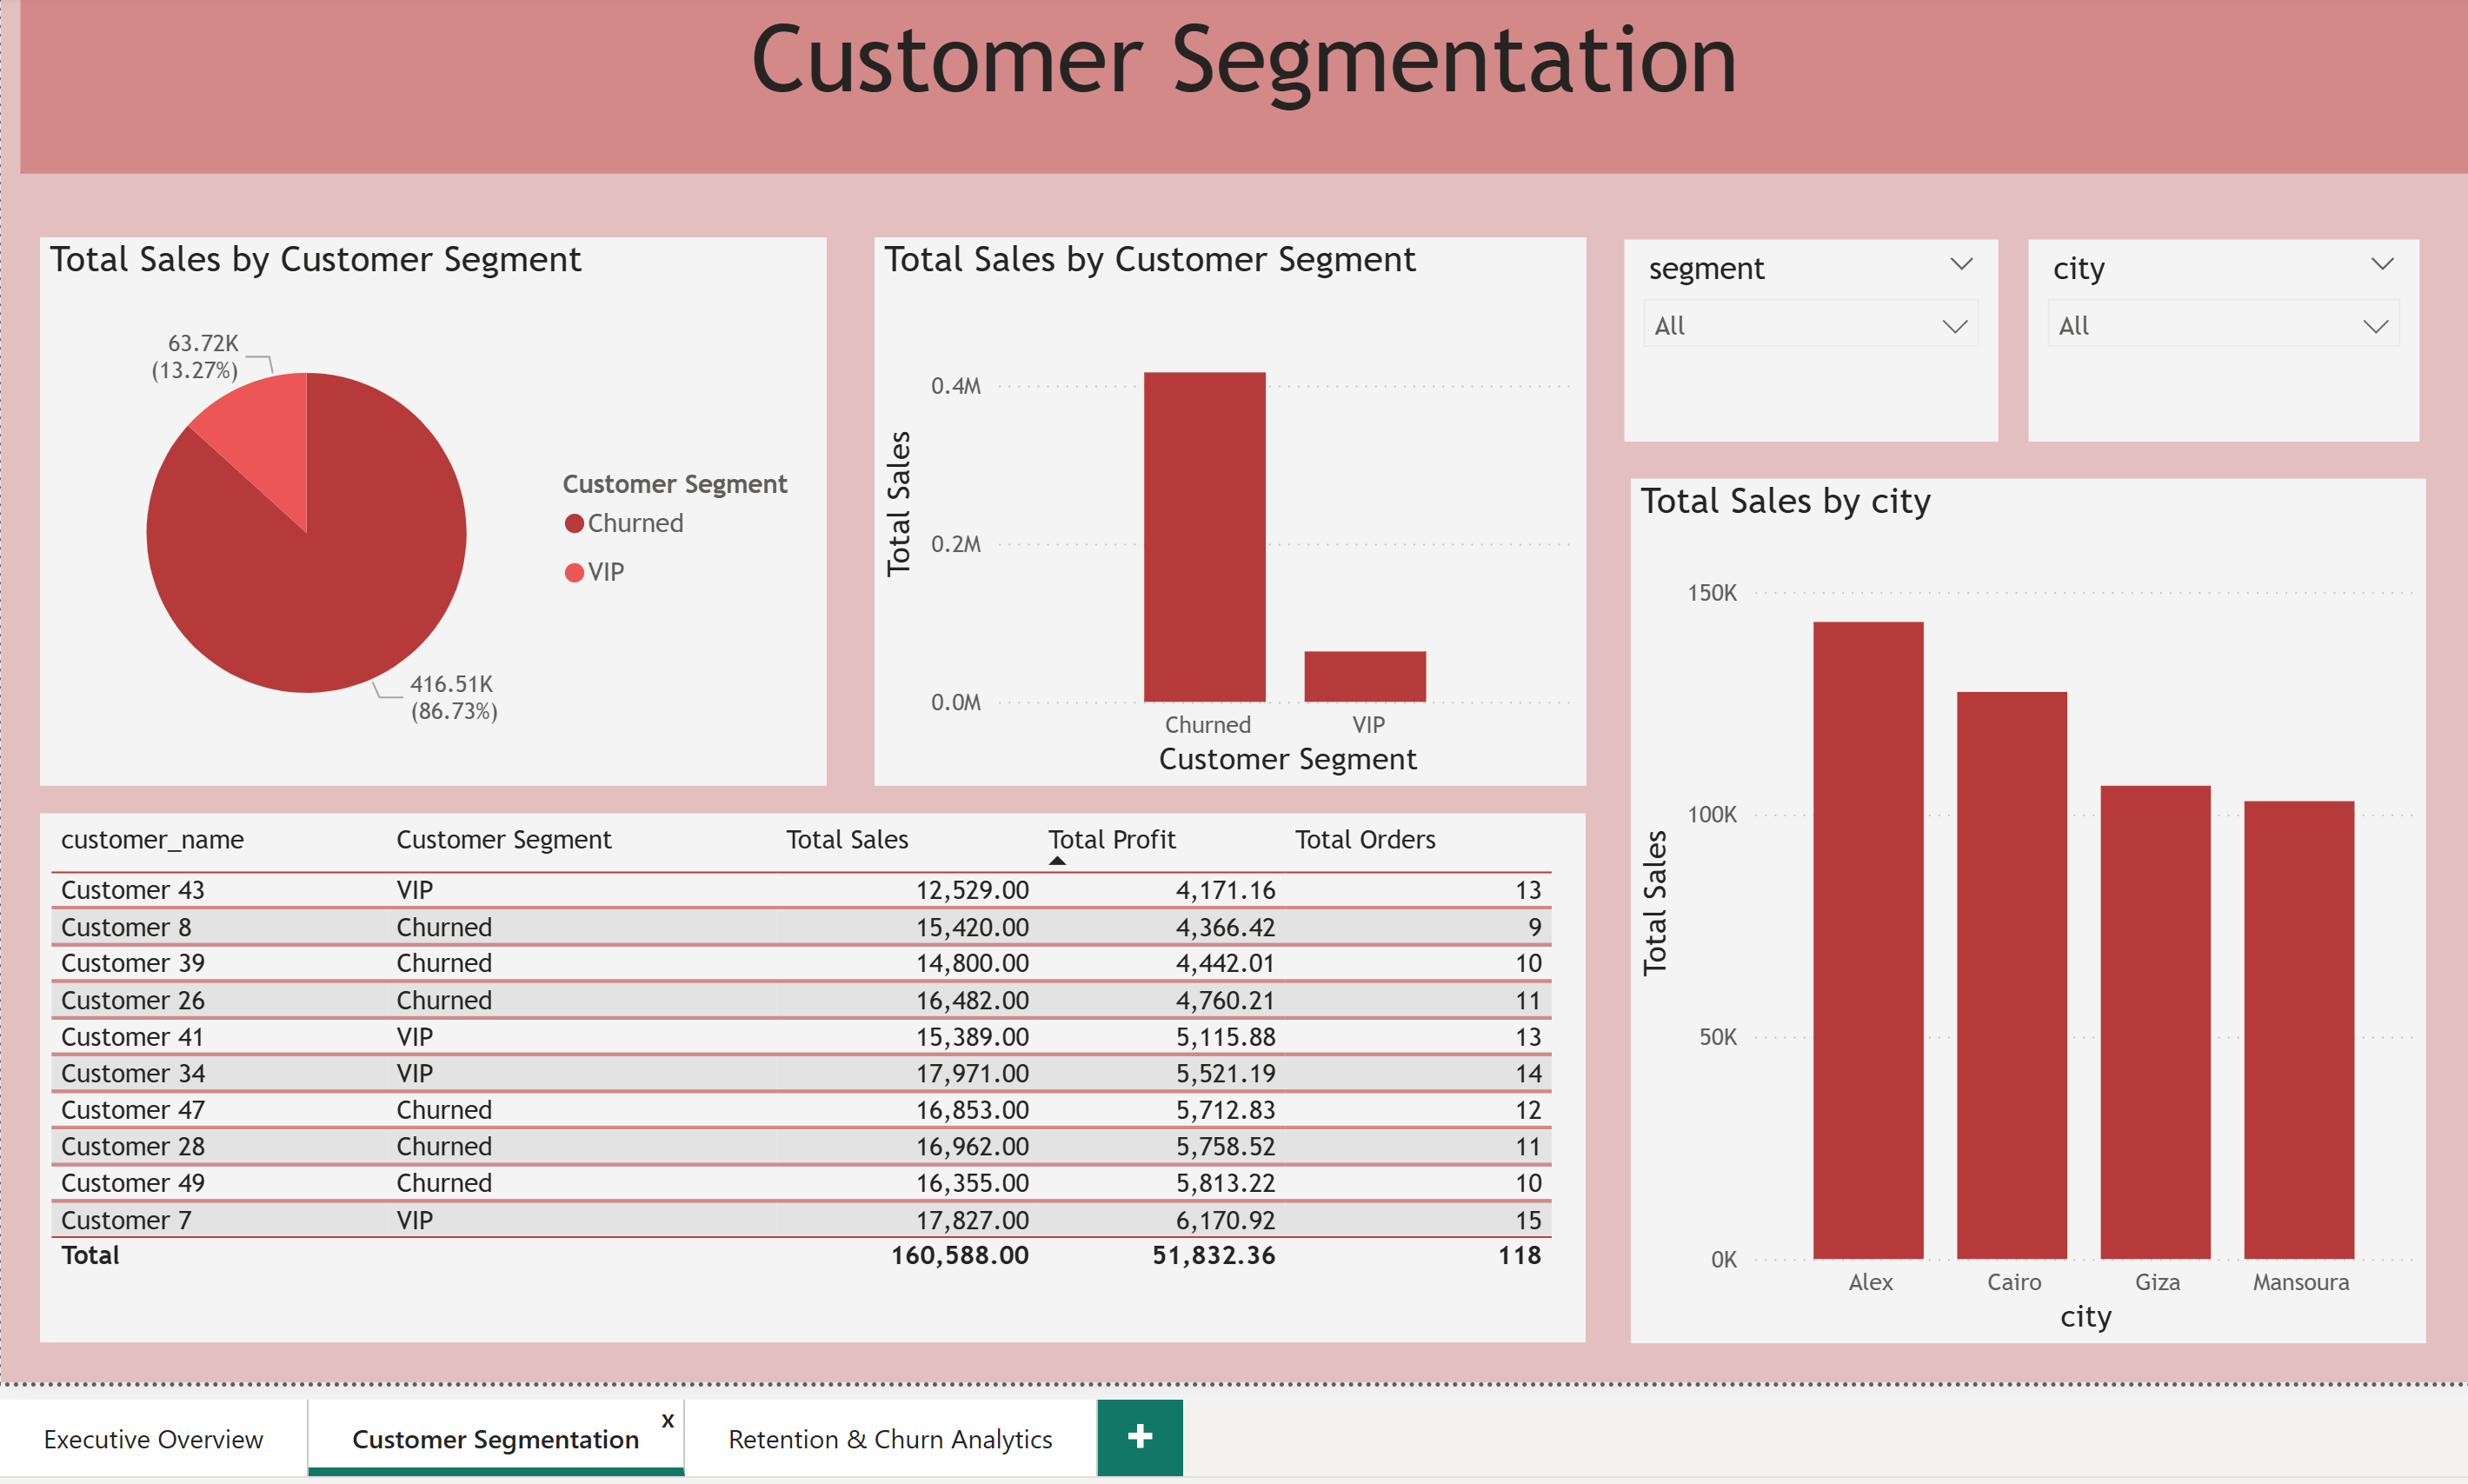

Layout of this report page (visuals, bound fields, positions):
{"tool":"powerbi","page":{"name":"Customer Segmentation","canvas":[1280,720],"ordinal":1},"visuals":[{"type":"pieChart","fields":{"Category":["public customers.Customer Segment"],"Y":["public orders.Total Sales"]},"box":[20.1,126.4,408.1,284.5],"z":0},{"type":"textbox","box":[10.1,0,1270.2,93.4],"z":1000},{"type":"columnChart","fields":{"Category":["public customers.Customer Segment"],"Y":["public orders.Total Sales"]},"box":[452.6,126.4,369.3,284.5],"z":2000},{"type":"tableEx","fields":{"Values":["public customers.customer_name","public customers.Customer Segment","public orders.Total Sales","public orders.Total Profit","public orders.Total Orders"]},"box":[20.1,425.3,801.8,274.5],"z":3000},{"type":"slicer","fields":{"Values":["public customers.segment"]},"box":[842,127.9,194,104.9],"z":4000},{"type":"slicer","fields":{"Values":["public customers.city"]},"box":[1051.8,127.9,202.6,104.9],"z":5000},{"type":"columnChart","fields":{"Y":["public orders.Total Sales"],"Category":["public customers.city"]},"box":[844.9,251.5,412.4,448.3],"z":6000}]}

Visuals, with their boxes on the page's 1280x720 design canvas (x1, y1, x2, y2). These are canvas units, not pixel positions in the 2468x1484 screenshot, which may show the page scaled, cropped or inside an application window:
pieChart - public customers.Customer Segment x public orders.Total Sales: 20/126/428/411
textbox: 10/0/1280/93
columnChart - public customers.Customer Segment x public orders.Total Sales: 453/126/822/411
tableEx - public customers.customer_name x public customers.Customer Segment: 20/425/822/700
slicer - public customers.segment: 842/128/1036/233
slicer - public customers.city: 1052/128/1254/233
columnChart - public orders.Total Sales x public customers.city: 845/252/1257/700
